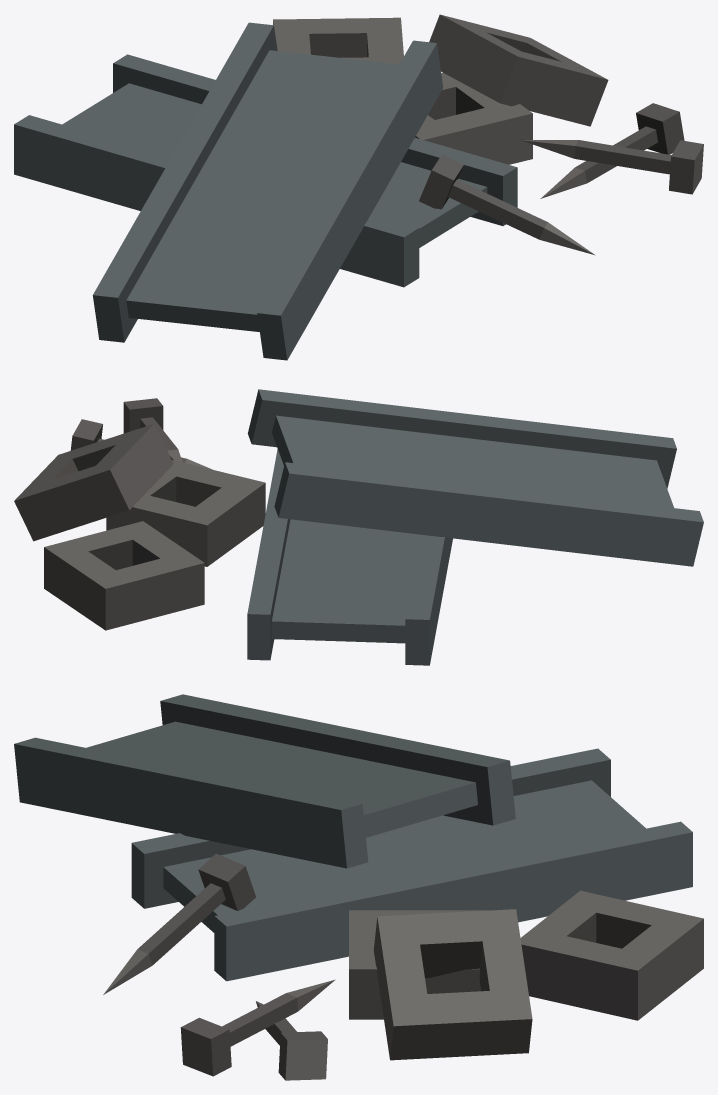
The model's file is AI_Item_Scrap_Metal.fbx.
The picture shows the model from 3 angles, top to bottom: view 1: azimuth 30°, elevation 25°; view 2: azimuth 150°, elevation 25°; view 3: azimuth 270°, elevation 25°; orthographic projection. The views are drawn at different scales.
Parts seen in each view (by area): view 1: AI_Item_Scrap_Metal; view 2: AI_Item_Scrap_Metal; view 3: AI_Item_Scrap_Metal.
Part boxes in pixels (x1,y1,x2,y2): AI_Item_Scrap_Metal: (14,14,703,360); AI_Item_Scrap_Metal: (14,389,703,665); AI_Item_Scrap_Metal: (14,694,703,1080).
Bounding box in the file's own units: 1.81 × 0.3968 × 1.55.
